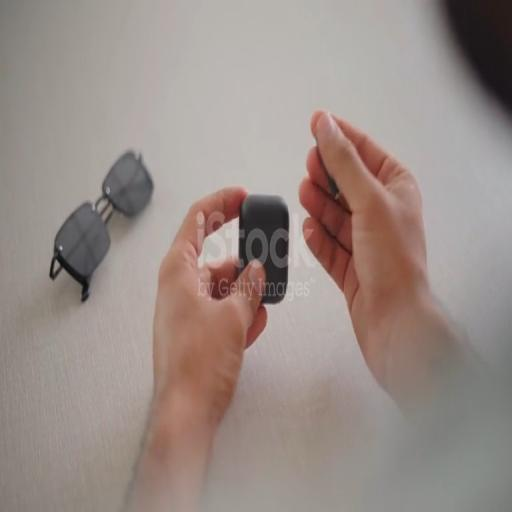earphone: (241, 190, 296, 305)
